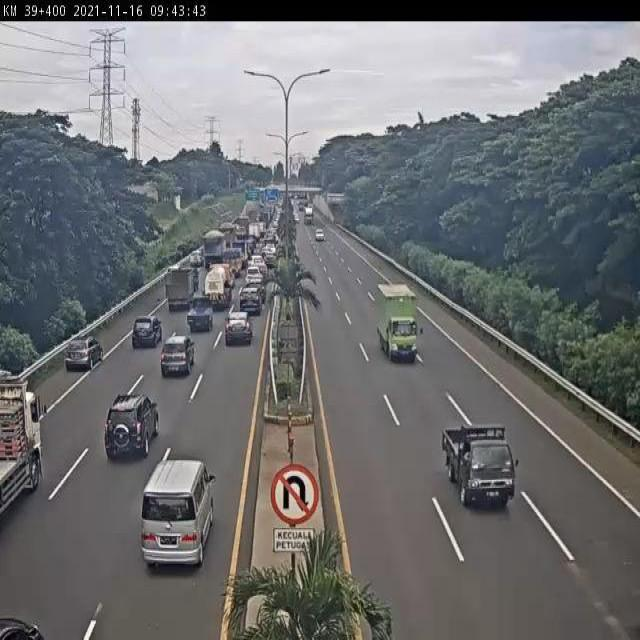car: (132, 448, 221, 579), (434, 414, 518, 514), (96, 381, 164, 464), (156, 332, 195, 383), (58, 332, 104, 373), (220, 310, 254, 354), (130, 311, 162, 352), (183, 295, 213, 337), (237, 289, 263, 319), (244, 275, 267, 304), (183, 248, 204, 272), (244, 265, 264, 288), (251, 253, 266, 272), (264, 251, 278, 268)
small truck: (369, 279, 422, 369), (157, 266, 196, 322), (220, 248, 244, 280)
truck-m-: (203, 263, 234, 313), (198, 232, 226, 276), (216, 219, 236, 248)
